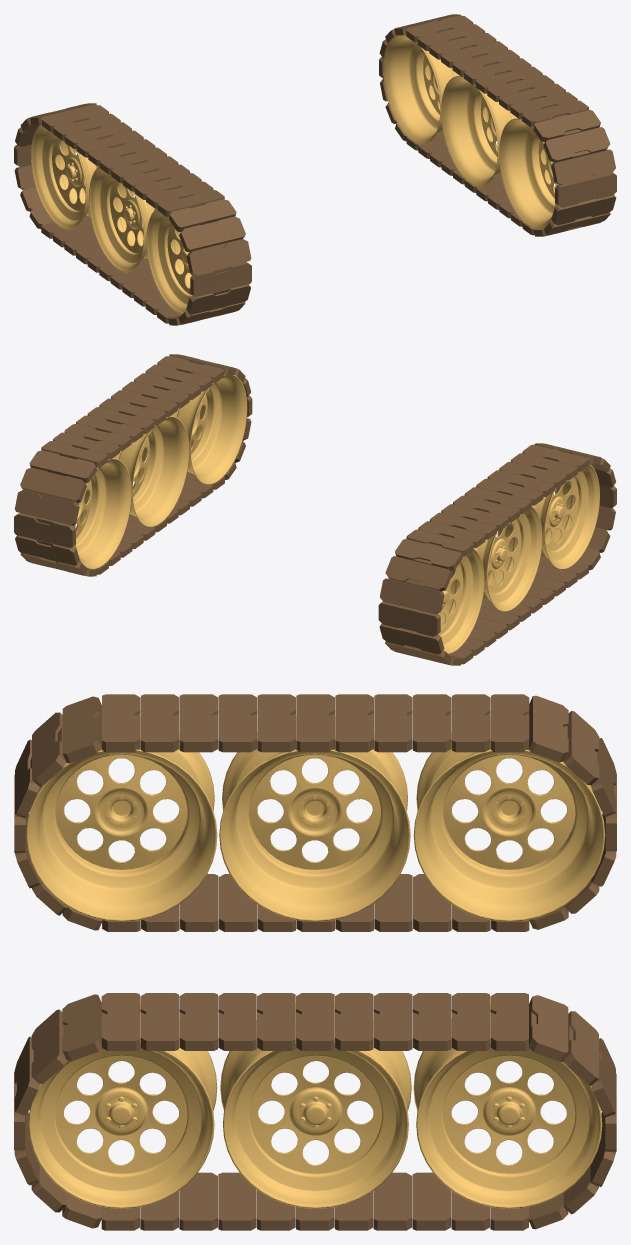
The model's file is Tire_D.fbx.
3 renders of one model, top to bottom at view 1: azimuth 30°, elevation 25°; view 2: azimuth 150°, elevation 25°; view 3: azimuth 270°, elevation 25°, orthographic. The views are drawn at different scales.
Parts seen in each view (by area): view 1: 內胎2.001, 內胎3.001, 內胎1.001, 內胎1, 內胎2, 內胎3, Cube 16.001, Cube 1, Cube 17.001, Cube 2, Cube 18.001, Cube 15.001 (+31 smaller); view 2: 內胎1.001, 內胎2.001, 內胎3.001, 內胎2, 內胎3, 內胎1, Cube 16, Cube 17, Cube 1.001, Cube 2.001, Cube 18, Cube 15 (+31 smaller); view 3: 內胎2, 內胎1, 內胎3, 內胎2.001, 內胎1.001, 內胎3.001, Cube 6, Cube 7, Cube 3, Cube 3.001, Cube 6.001, Cube 7.001 (+52 smaller).
Boxes of the visible parts, bbox=[...] form: 內胎2.001: bbox=[441, 76, 521, 187]; 內胎3.001: bbox=[383, 34, 463, 144]; 內胎1.001: bbox=[499, 118, 557, 229]; 內胎1: bbox=[31, 124, 98, 229]; 內胎2: bbox=[88, 166, 156, 272]; 內胎3: bbox=[146, 208, 246, 314]; Cube 16.001: bbox=[543, 127, 610, 162]; Cube 1: bbox=[186, 239, 251, 274]; Cube 17.001: bbox=[551, 149, 615, 184]; Cube 2: bbox=[179, 216, 245, 252]; Cube 18.001: bbox=[555, 172, 616, 207]; Cube 15.001: bbox=[533, 110, 600, 142]; 內胎1.001: bbox=[170, 374, 247, 484]; 內胎2.001: bbox=[113, 416, 189, 527]; 內胎3.001: bbox=[73, 458, 131, 569]; 內胎2: bbox=[474, 506, 542, 611]; 內胎3: bbox=[532, 464, 599, 569]; 內胎1: bbox=[388, 548, 484, 654]; Cube 16: bbox=[385, 556, 452, 591]; Cube 17: bbox=[380, 578, 444, 613]; Cube 1.001: bbox=[15, 490, 79, 525]; Cube 2.001: bbox=[20, 467, 86, 503]; Cube 18: bbox=[378, 601, 440, 636]; Cube 15: bbox=[395, 539, 462, 570]; 內胎2: bbox=[219, 716, 410, 920]; 內胎1: bbox=[413, 716, 605, 920]; 內胎3: bbox=[26, 716, 217, 920]; 內胎2.001: bbox=[220, 1003, 411, 1208]; 內胎1.001: bbox=[28, 1003, 217, 1208]; 內胎3.001: bbox=[413, 1003, 602, 1208]; Cube 6: bbox=[179, 694, 218, 752]; Cube 7: bbox=[218, 694, 257, 752]; Cube 3: bbox=[62, 696, 101, 763]; Cube 3.001: bbox=[529, 995, 568, 1061]; Cube 6.001: bbox=[412, 993, 451, 1050]; Cube 7.001: bbox=[373, 993, 412, 1050].
Size of the model in its own units: 169766 by 43378 by 124810.
